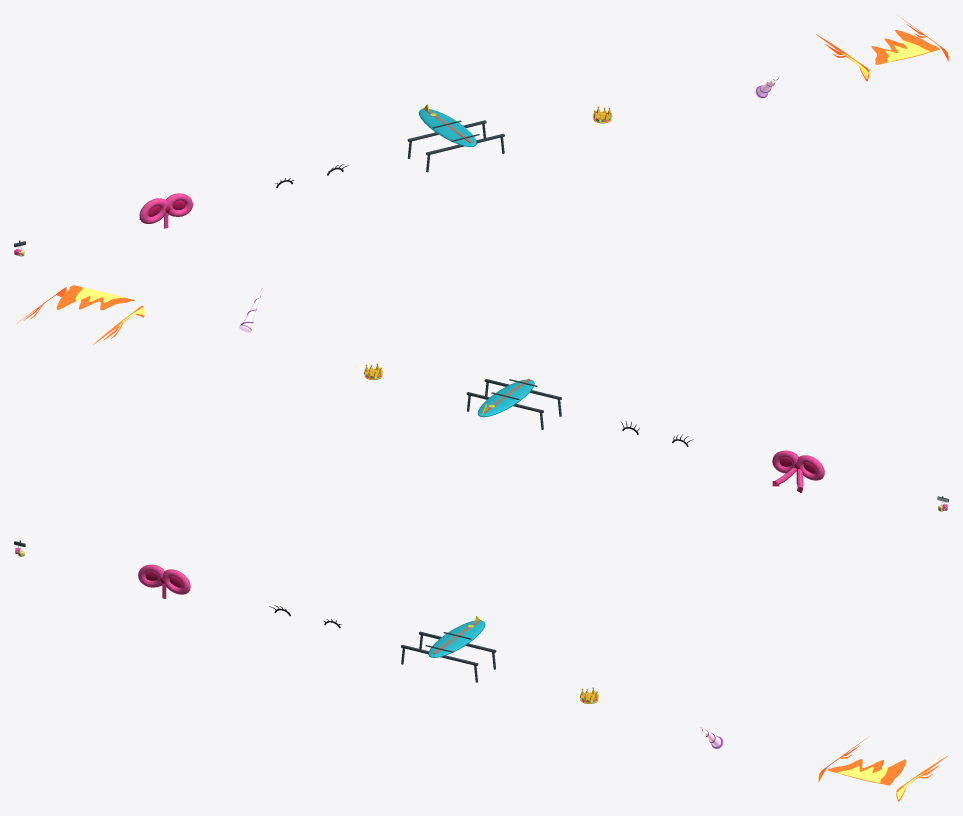
The model's file is garage_decor.glb.
3 renders of one model, top to bottom at view 1: azimuth 30°, elevation 25°; view 2: azimuth 150°, elevation 25°; view 3: azimuth 330°, elevation 25°, orthographic. The views are drawn at different scales.
Parts seen in each view (by area): view 1: Surfboard, Flames, Bow; view 2: Surfboard, Flames, Bow; view 3: Surfboard, Flames, Bow.
Part boxes in pixels (x1=…): Surfboard: x1=407, y1=104, x2=504, y2=172; Flames: x1=816, y1=16, x2=948, y2=81; Bow: x1=139, y1=193, x2=192, y2=228; Surfboard: x1=466, y1=378, x2=561, y2=429; Flames: x1=17, y1=285, x2=144, y2=344; Bow: x1=772, y1=450, x2=824, y2=492; Surfboard: x1=401, y1=616, x2=496, y2=682; Flames: x1=818, y1=738, x2=948, y2=801; Bow: x1=138, y1=564, x2=190, y2=598.
Bounding box in the file's own units: 20.28 × 0.9193 × 2.63.
